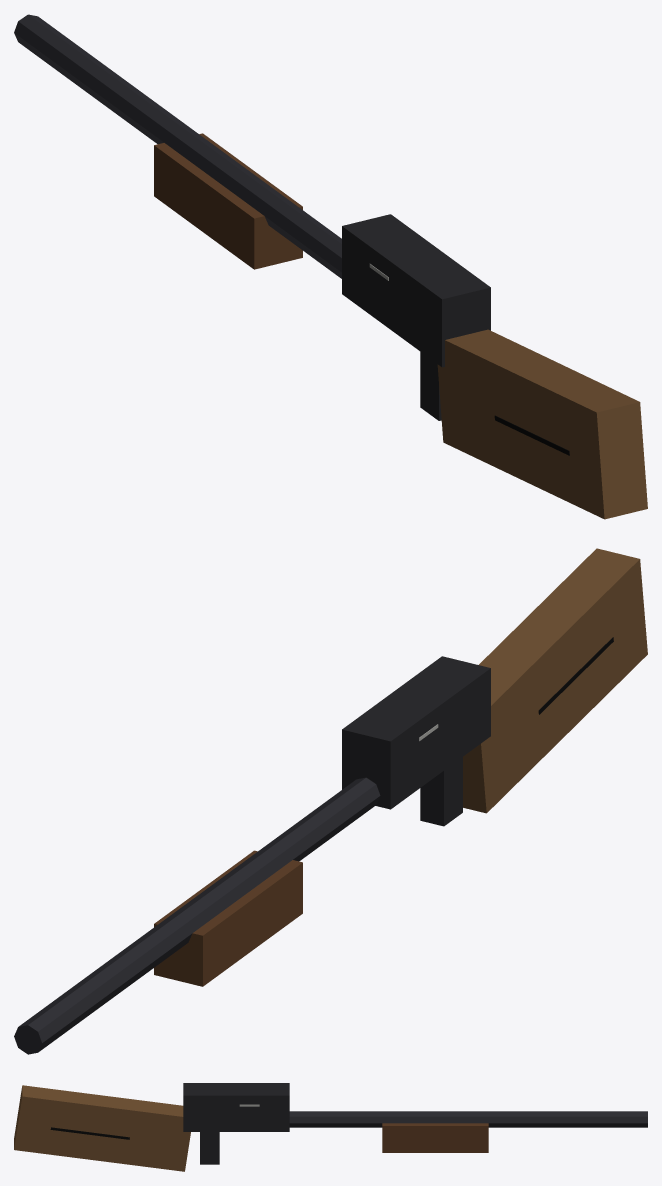
Rendered from shotgun_w1.glb.
3 renders of one model, top to bottom at view 1: azimuth 30°, elevation 25°; view 2: azimuth 150°, elevation 25°; view 3: azimuth 270°, elevation 25°, orthographic. The views are drawn at different scales.
Visible parts, largest first — view 1: shotgun_w1; view 2: shotgun_w1; view 3: shotgun_w1.
Part boxes in pixels (x1=…): shotgun_w1: x1=14, y1=14, x2=647, y2=519; shotgun_w1: x1=14, y1=548, x2=647, y2=1054; shotgun_w1: x1=14, y1=1083, x2=647, y2=1171.
Bounding box in the file's own units: 0.046 × 0.1277 × 0.955.
